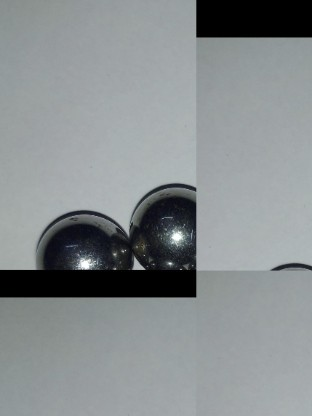ironball: (27, 206, 134, 269), (121, 179, 197, 267)
